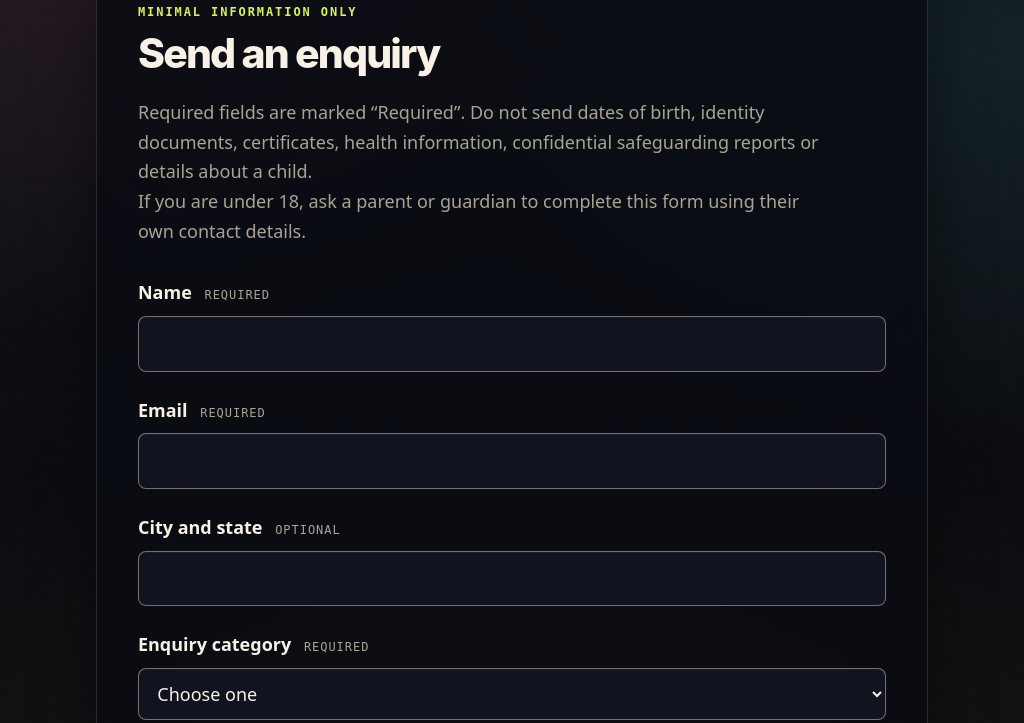
Test: enquiry form workstream › treats a success-shaped body with a non-201 status as unconfirmed
The width and height of the screenshot is (1024, 723).
Type "Test Person" into the field labelled "Name Required" at (512, 344), box [138,316,886,372]
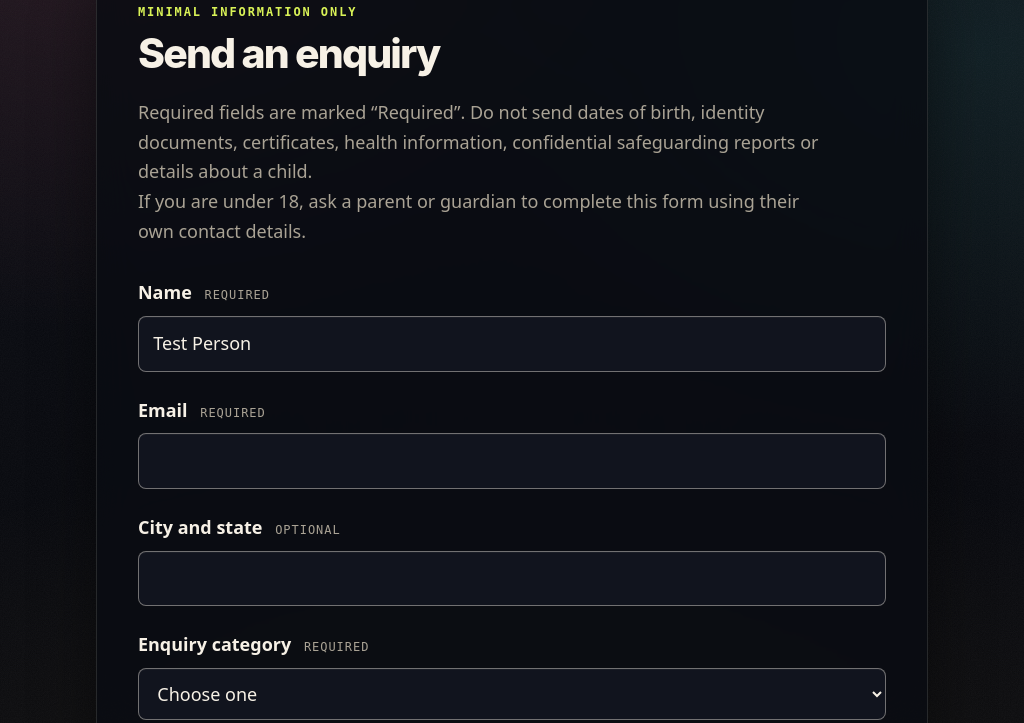
Type "person@example.com" into the field labelled "Email Required" at (512, 461), box [138,433,886,489]
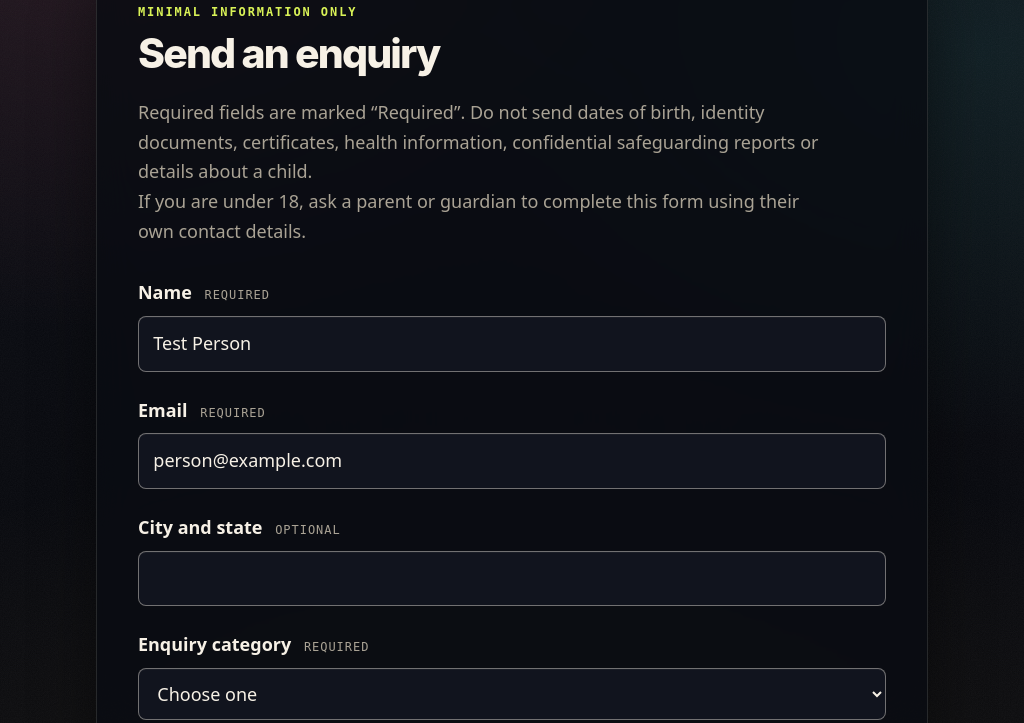
Select "General question" in the dropdown labelled "Enquiry category Required" at (512, 694), box [138,668,886,720]
(page scrolled)
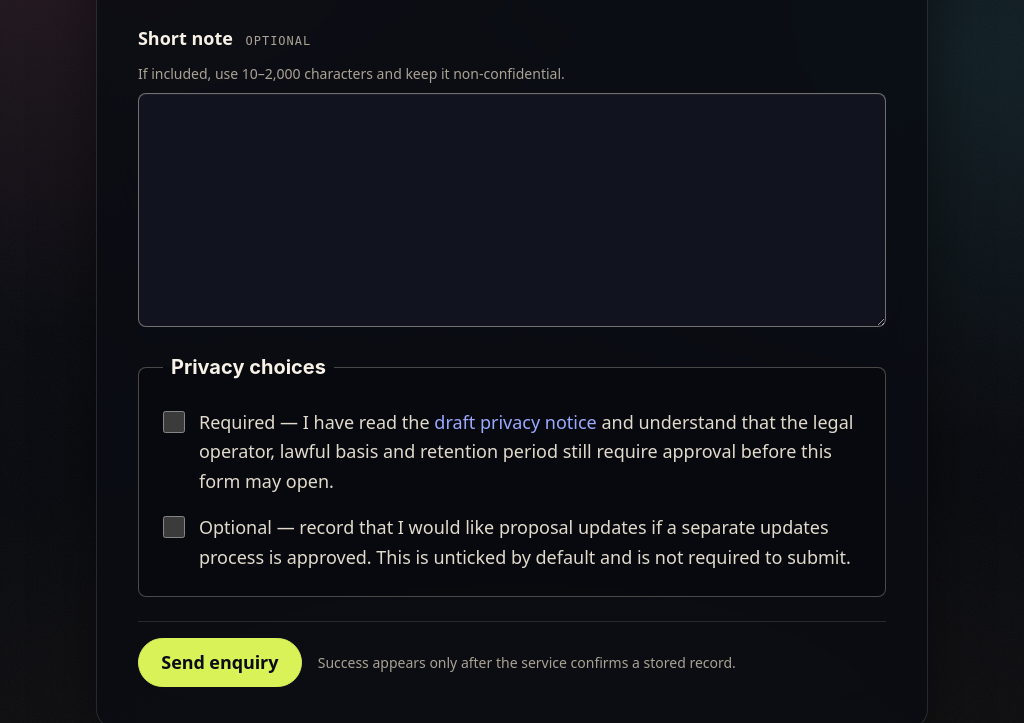
Click the checkbox labelled "Required — I have read the draft privacy notice" at (174, 422), box [163,411,185,432]
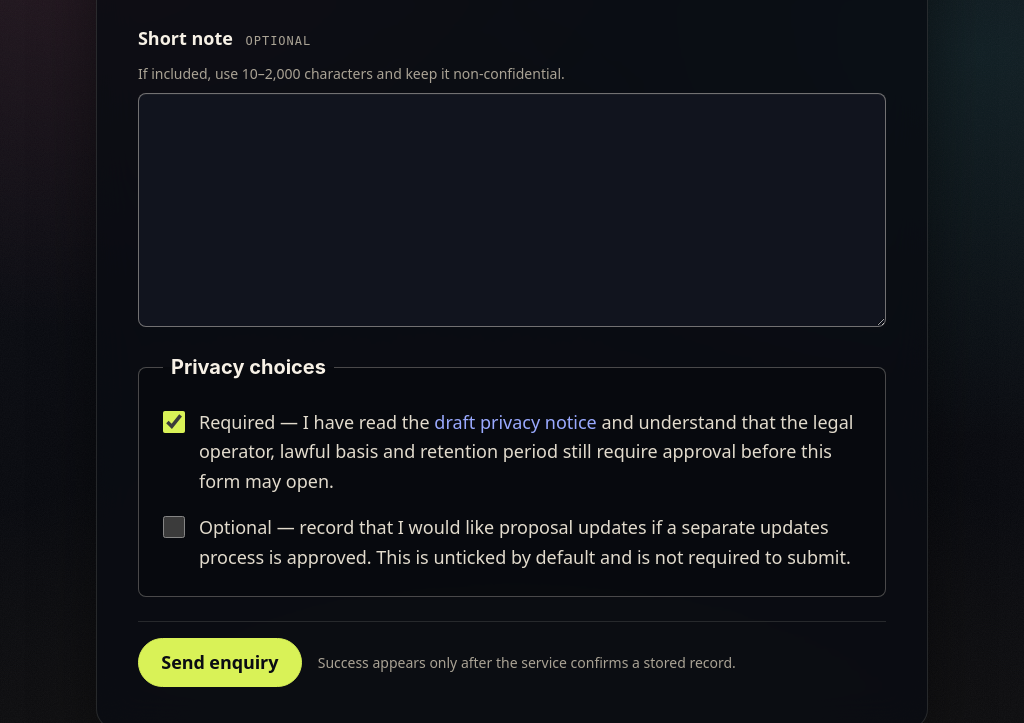
Click the button "Send enquiry" at (220, 663), box [138,638,302,687]
(page scrolled)
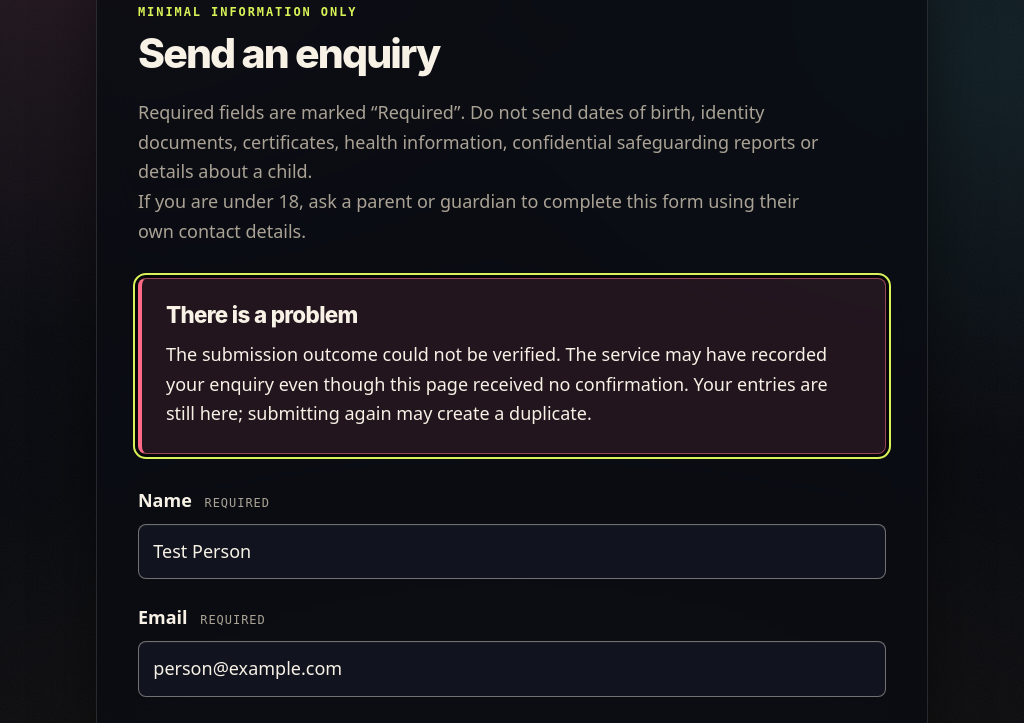
Expected: the message shows "The submission outcome could not be verified.", [166,342,828,425]
Expected: the message shows "submitting again may create a duplicate", [166,342,828,425]
